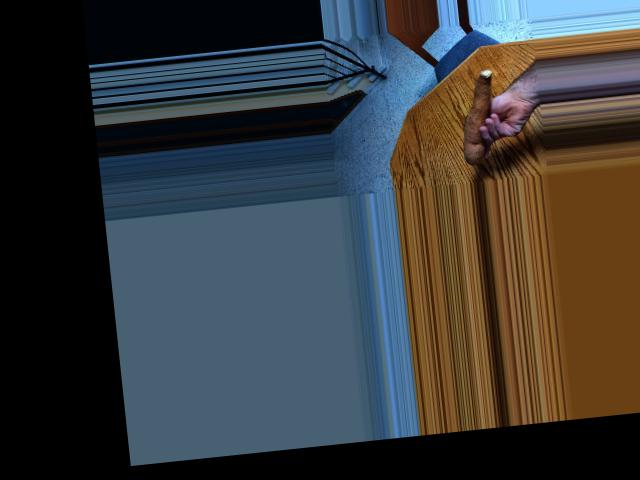sweet_potato: (450, 66, 503, 162)
